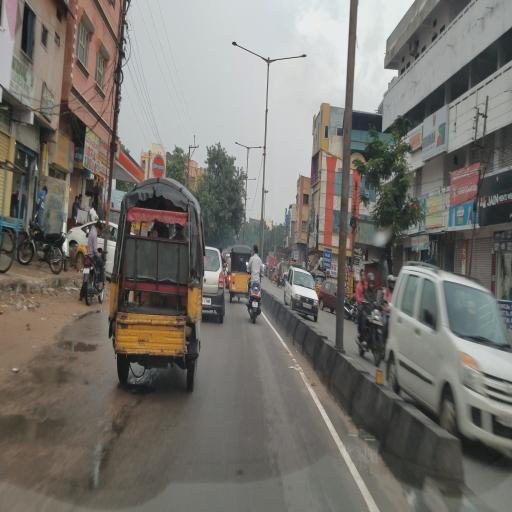street_light_0: (223, 32, 268, 64), (265, 36, 309, 68), (244, 134, 264, 160), (232, 134, 251, 160)
